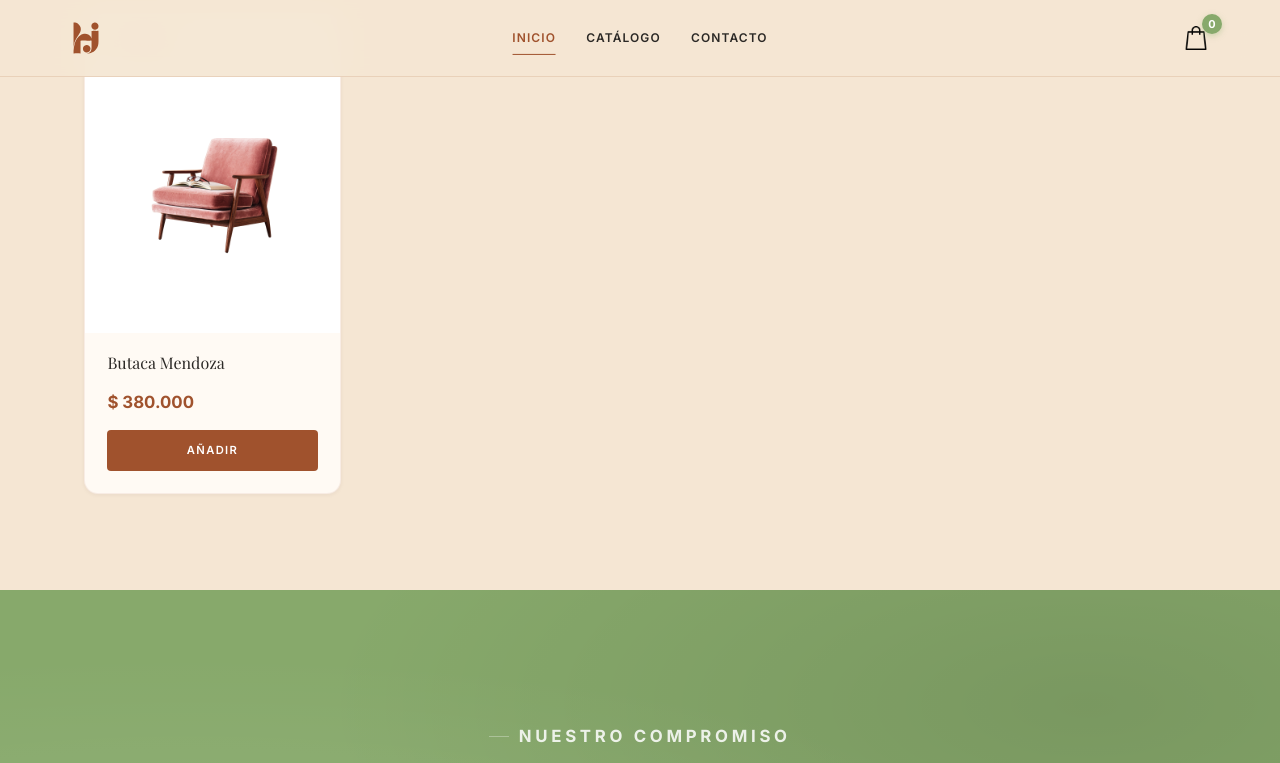
Test: Hermanos Jota — Componentes, navegación y API › El carrito suma unidades, calcula el total y se puede vaciar
The width and height of the screenshot is (1280, 763).
(page scrolled)
Expected: the heading "Butaca Mendoza" is shown, [107,352,225,373]
Dos unidades de la Butaca Mendoza desde la portada
Click the button "AÑADIR": (212, 450) [107,430,318,471]
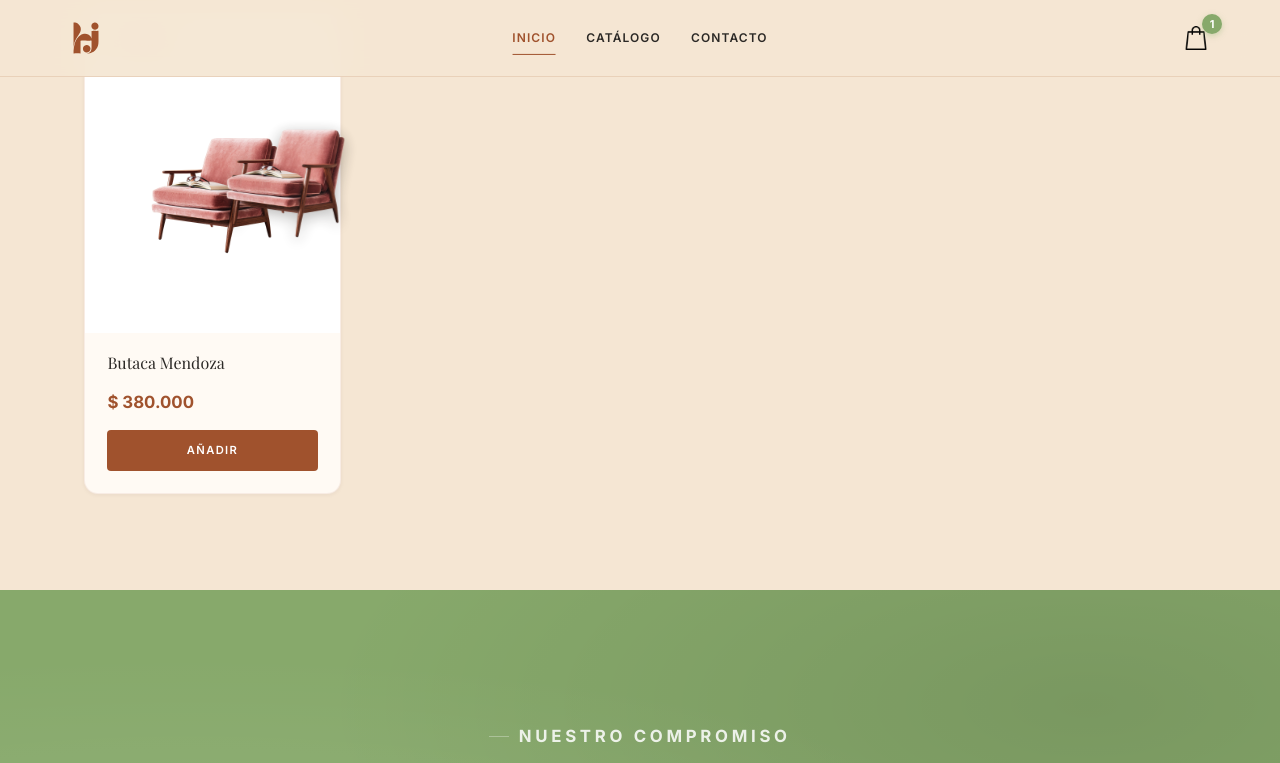
Click the button "AÑADIR": (212, 450) [107,430,318,471]
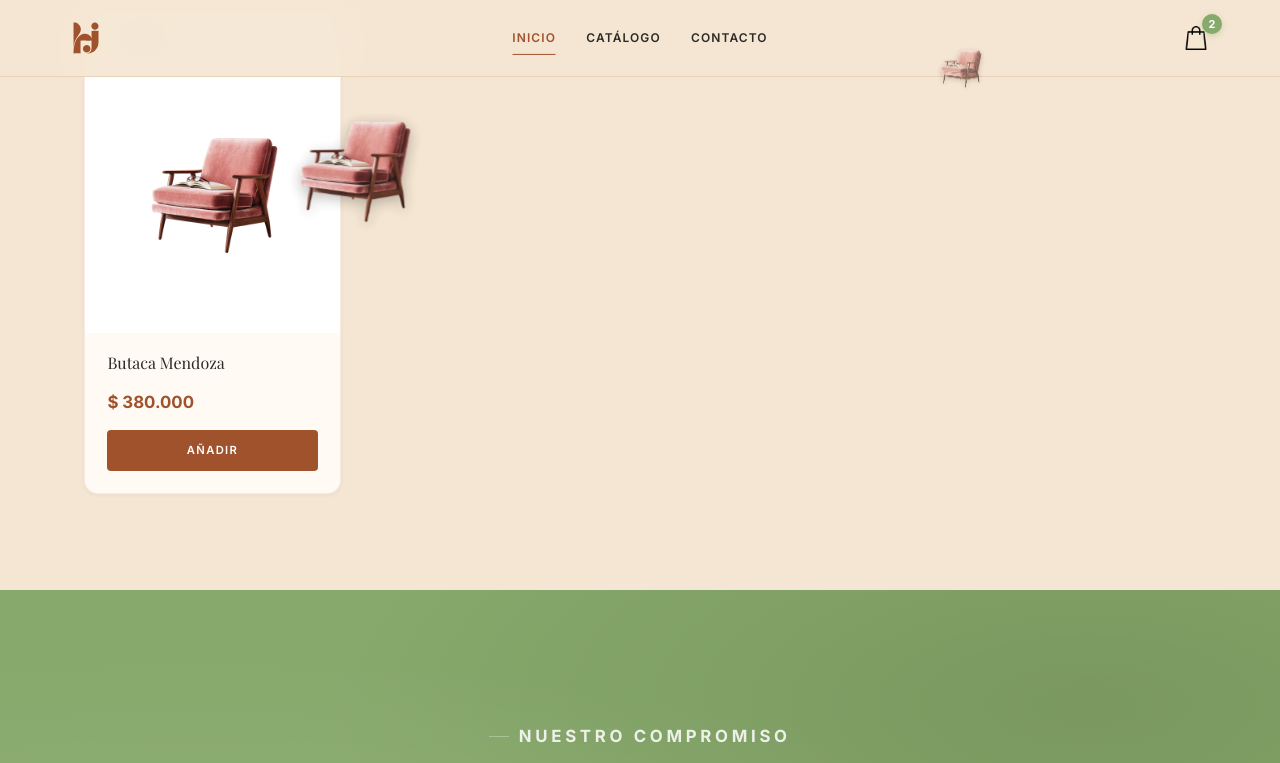
Now the text with id "cart-count" reads "2", box [1209,17,1216,31]
Click the button named "ver carrito de compras": (1196, 38) [1176,18,1216,58]
(page scrolled)
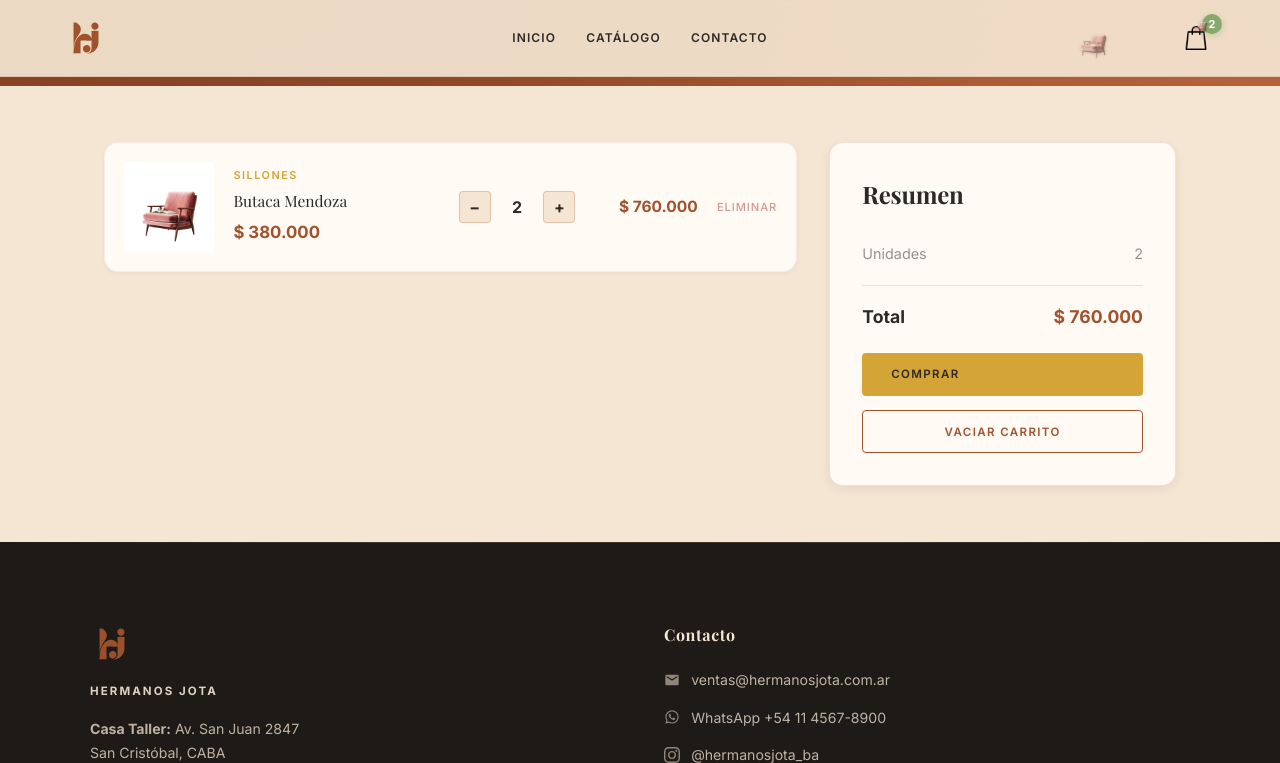
Expected: the heading "Butaca Mendoza" is shown, [233,190,347,211]
Now the text with id "cart-total" shows "760.000", box [1054,306,1143,327]
Click the button "COMPRAR": (925, 374) [862,353,1143,396]
(page scrolled)
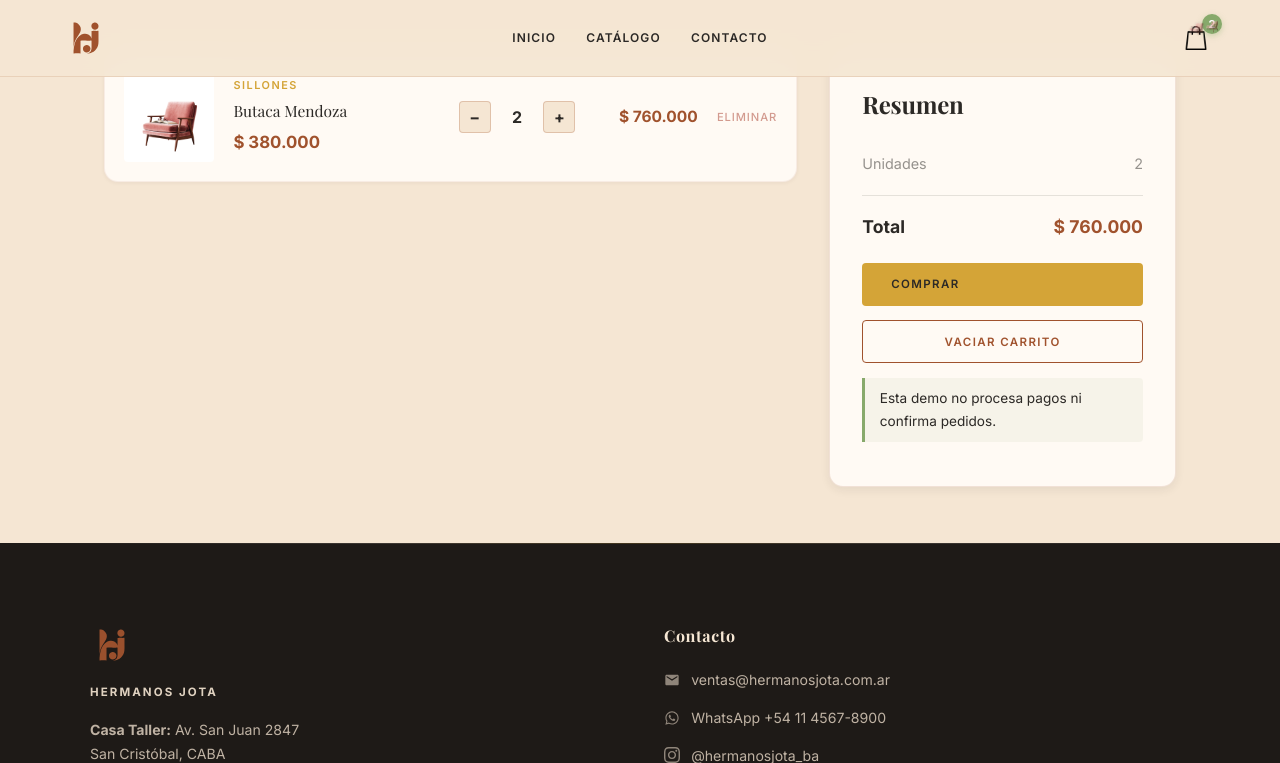
Now the message shows "Esta demo no procesa pagos", box [880,390,1082,429]
Click the button named "quitar una unidad de butaca mendoza": (475, 117) [459,101,491,133]
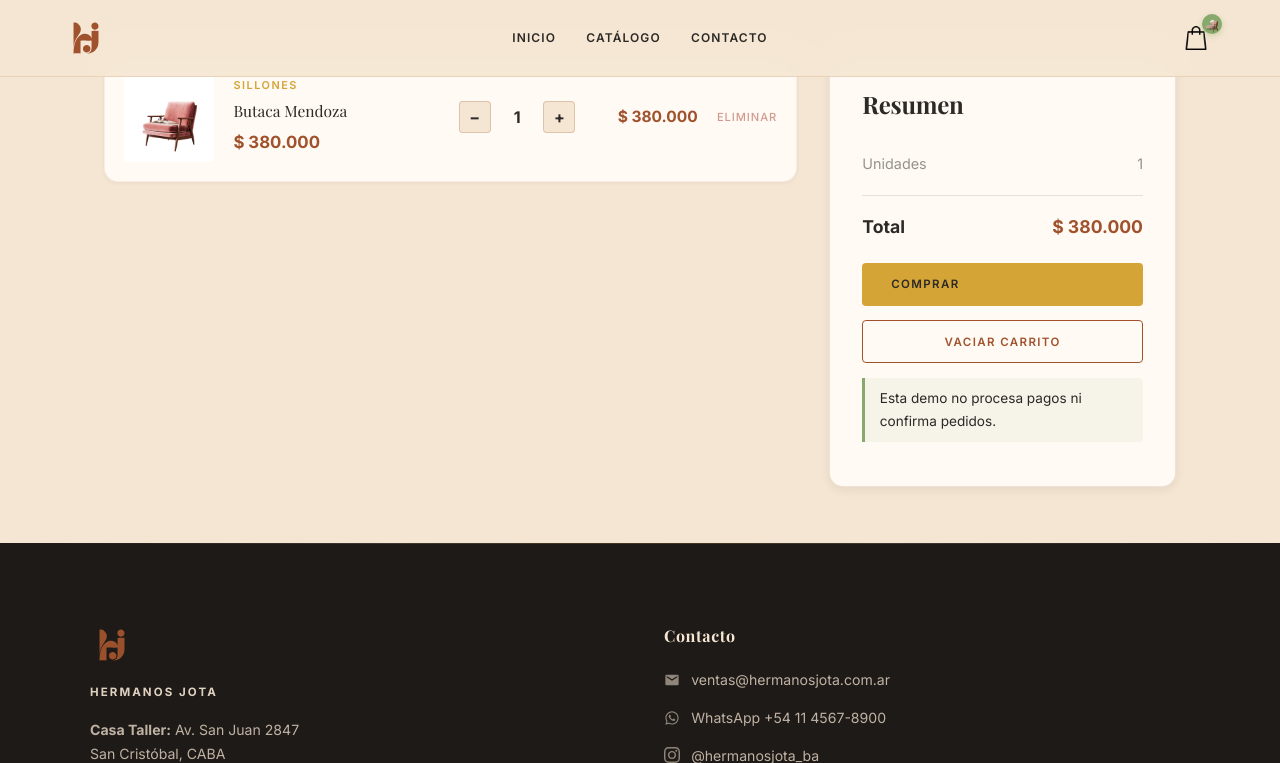
Now the text with id "cart-total" shows "380.000", box [1052,216,1143,237]
Click the button "VACIAR CARRITO": (1003, 342) [862,320,1143,363]
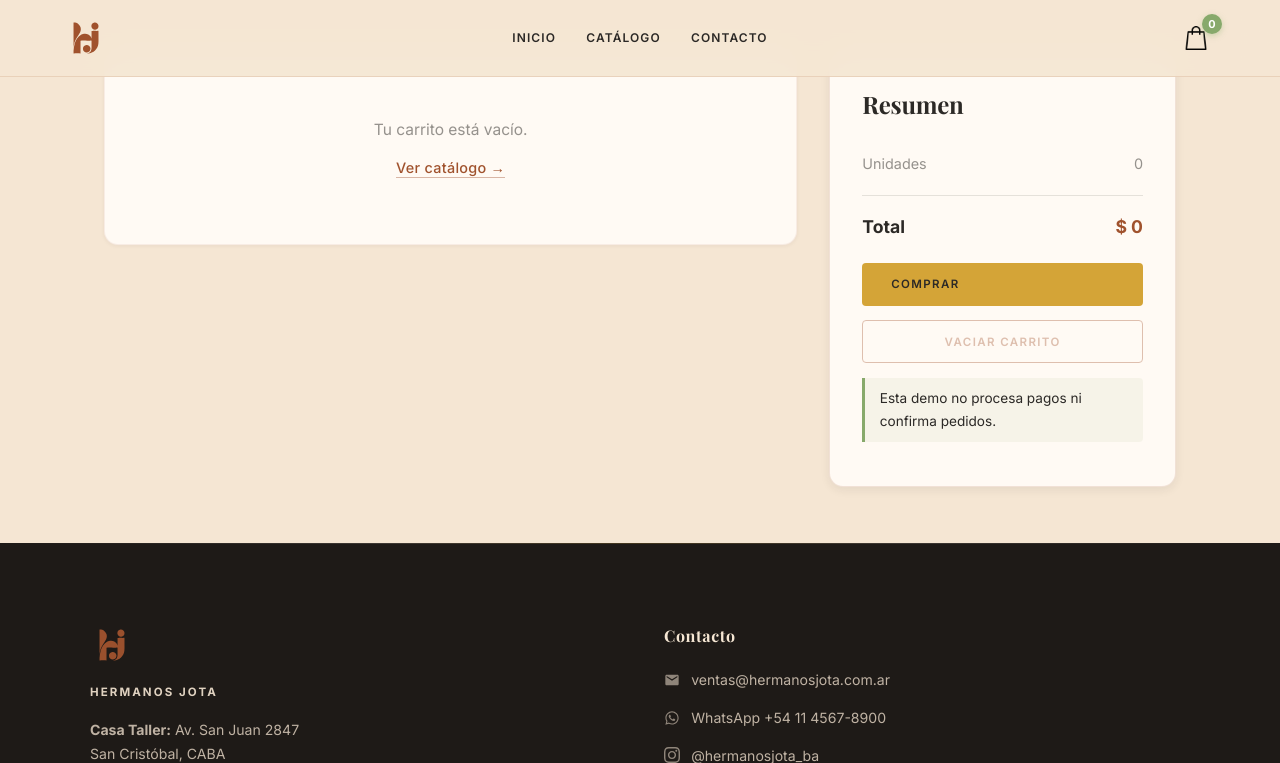
Expected: the button "COMPRAR" is disabled, [862,263,1143,306]
Now the text "Tu carrito está vacío." is shown, box [374,120,528,139]
Now the text with id "cart-count" reads "0", box [1208,17,1216,31]
